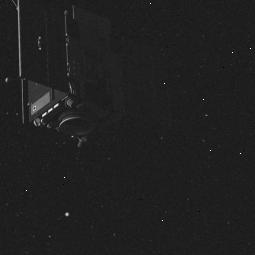proba_2: (0, 0, 168, 138)
